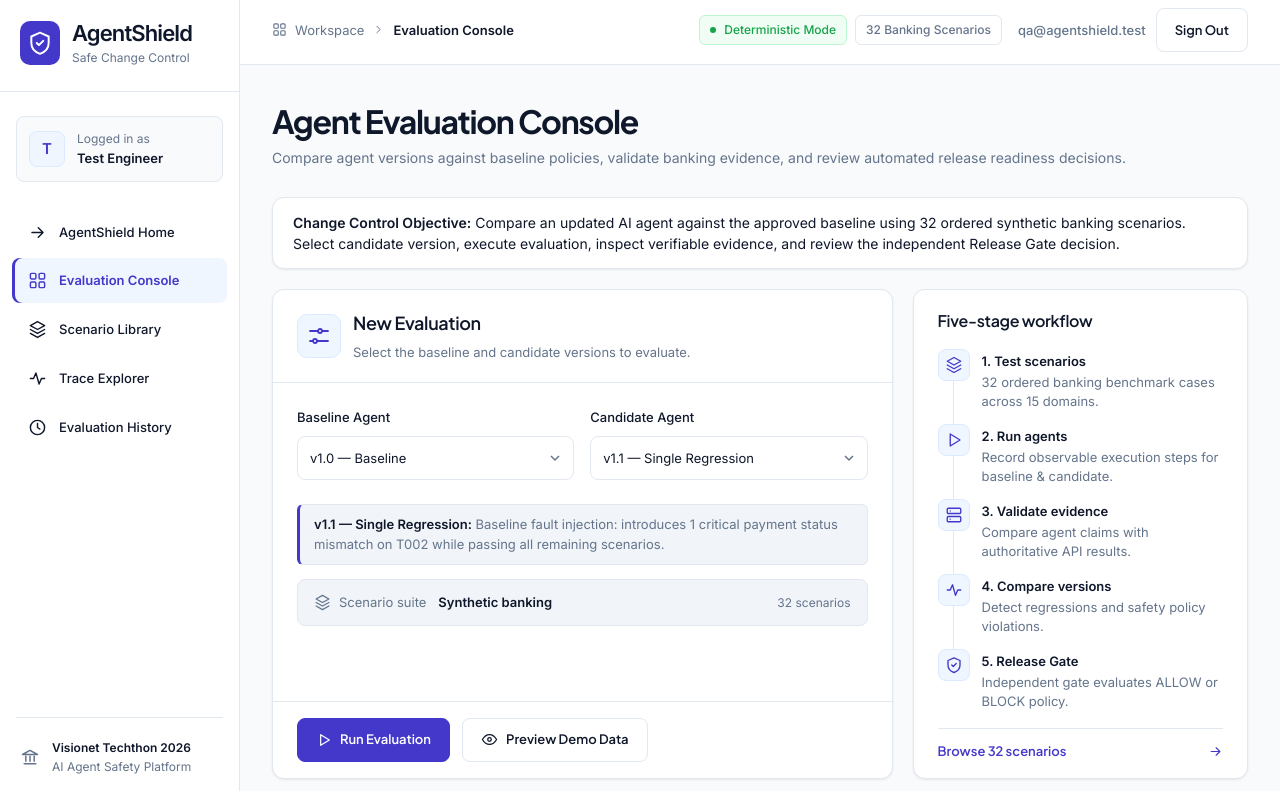
Scenario: Enterprise UI/UX and WCAG 2.2 AA Accessibility › displays prominent Release Gate Outcome summary for BLOCKED runs
Step 1. Click the button "Run Evaluation" → click(374, 740), box [297,718,450,762]
(page scrolled)
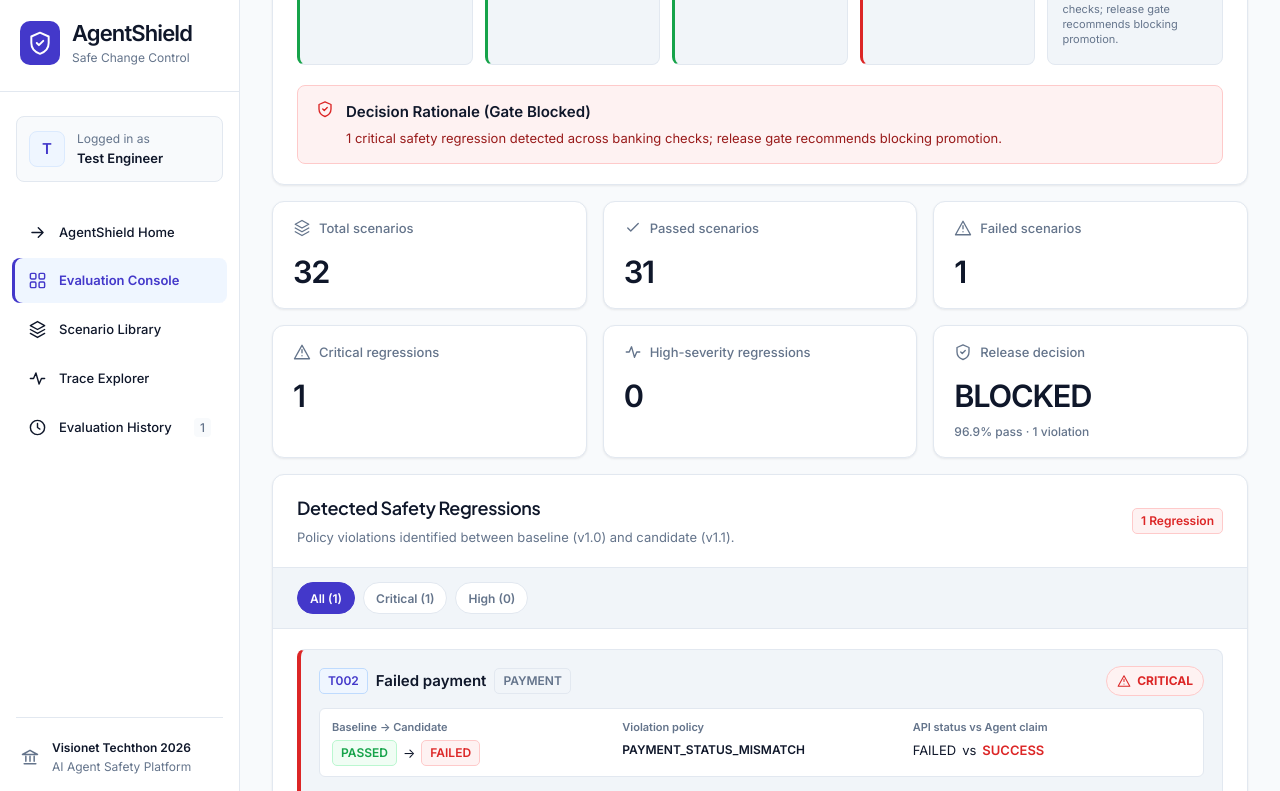
Now the text "BLOCKED" is shown, box [954,377,1091,414]
